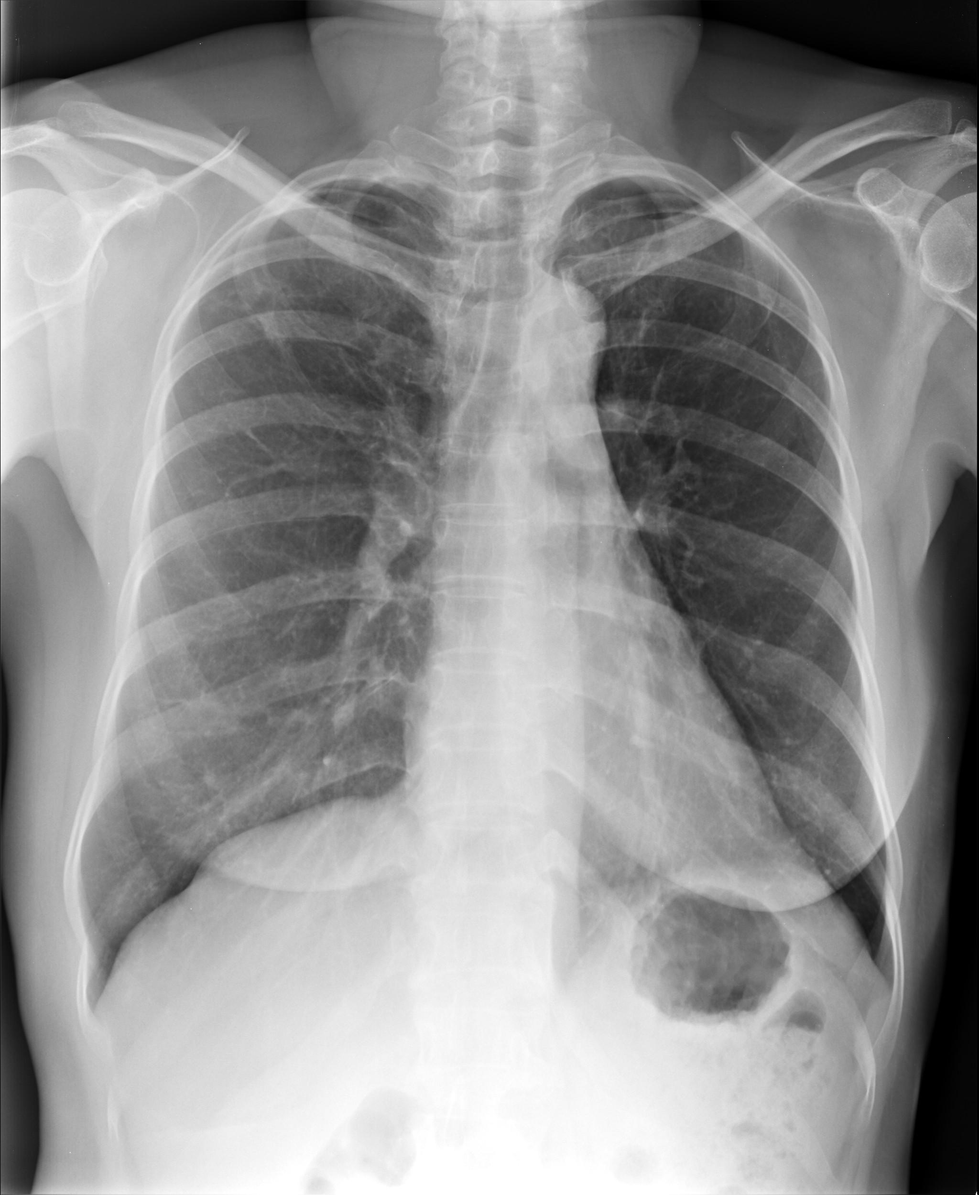Pulmonary fibrosis: (199, 277, 283, 341)
